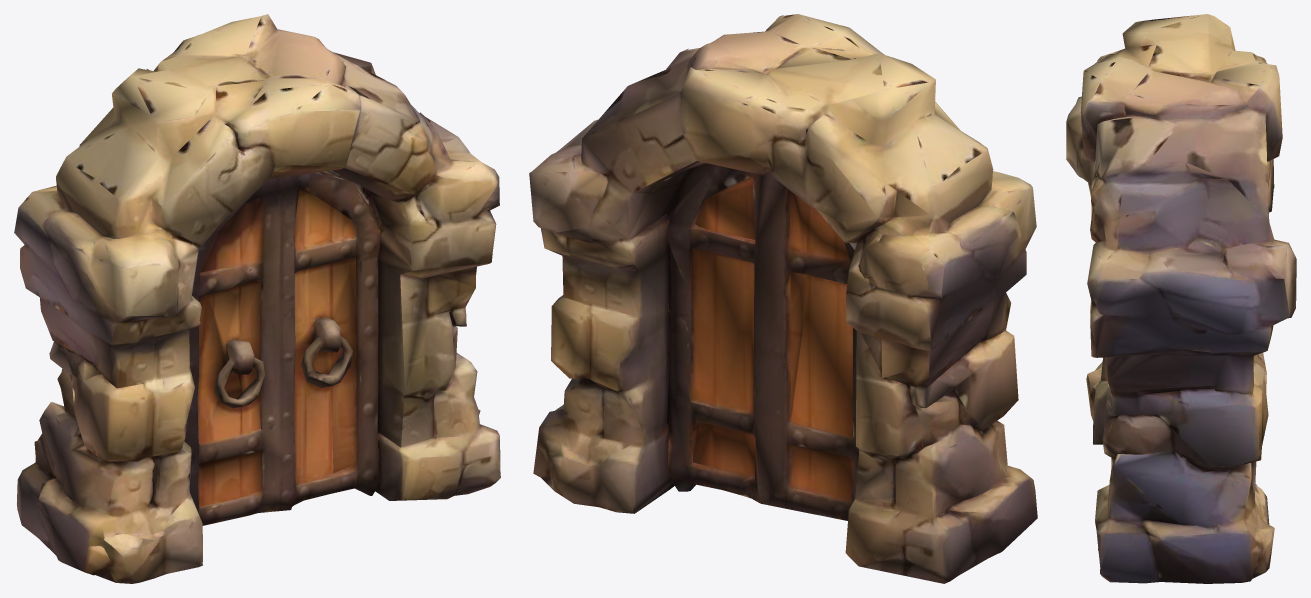
File: castle_gate.glb
3 renders of one model, left to right at view 1: azimuth 30°, elevation 25°; view 2: azimuth 150°, elevation 25°; view 3: azimuth 270°, elevation 25°, orthographic. The views are drawn at different scales.
Parts seen in each view (by area): view 1: tripo_node_a2617051-a6ac-4049-917b-3e464e88d2aa; view 2: tripo_node_a2617051-a6ac-4049-917b-3e464e88d2aa; view 3: tripo_node_a2617051-a6ac-4049-917b-3e464e88d2aa.
Part boxes in pixels (<box>): tripo_node_a2617051-a6ac-4049-917b-3e464e88d2aa: <box>14,14,500,583</box>; tripo_node_a2617051-a6ac-4049-917b-3e464e88d2aa: <box>529,14,1037,583</box>; tripo_node_a2617051-a6ac-4049-917b-3e464e88d2aa: <box>1066,14,1296,583</box>.
Bounding box in the file's own units: 0.9776 × 0.9967 × 0.4843.
1 material, 1 textured.
